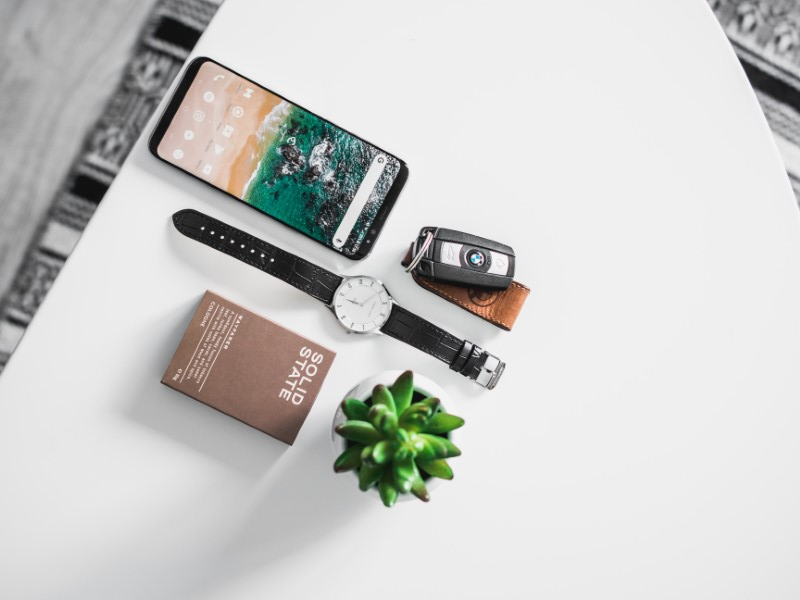carkey: (397, 225, 520, 289)
